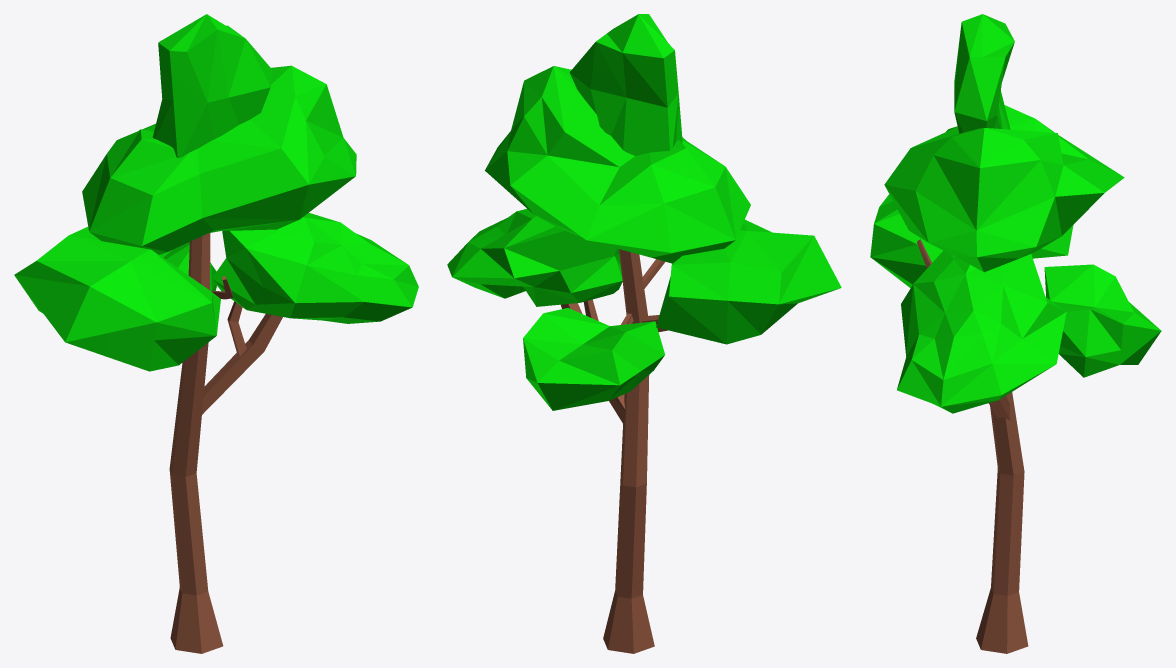
The model's file is Tree2.glb.
3 views of the same model, side by side, from view 1: azimuth 30°, elevation 25°; view 2: azimuth 150°, elevation 25°; view 3: azimuth 270°, elevation 25° (orthographic). The views are drawn at different scales.
Parts seen in each view (by area): view 1: Tree2; view 2: Tree2; view 3: Tree2.
Part boxes in pixels (x1,y1,x2,y2): Tree2: (14,14,418,653); Tree2: (447,14,841,653); Tree2: (870,14,1161,653).
Size of the model in its own units: 3.46 by 5.75 by 2.42.
